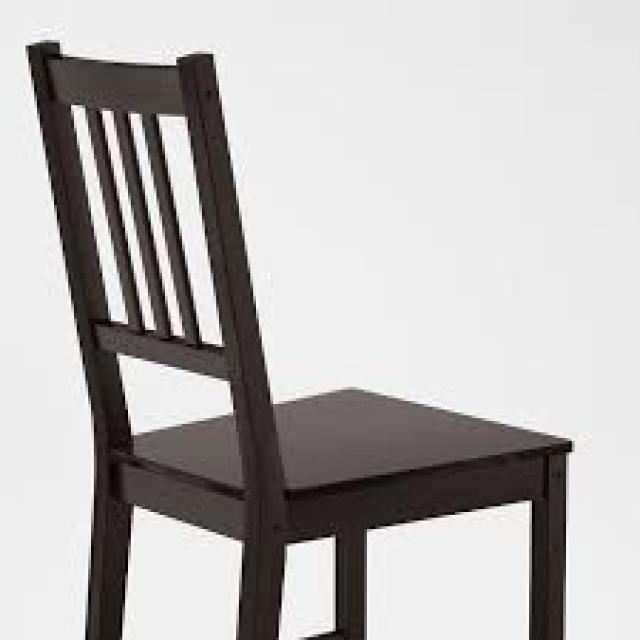chair: (0, 30, 589, 640)
